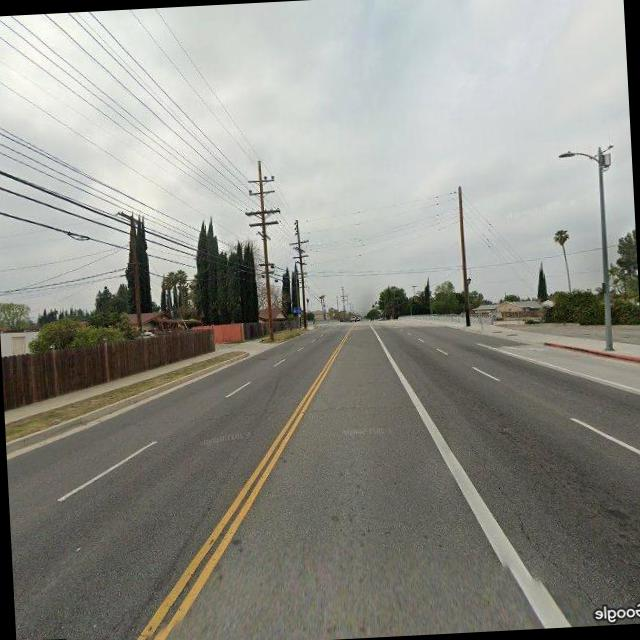pothole: (469, 438, 566, 578)
